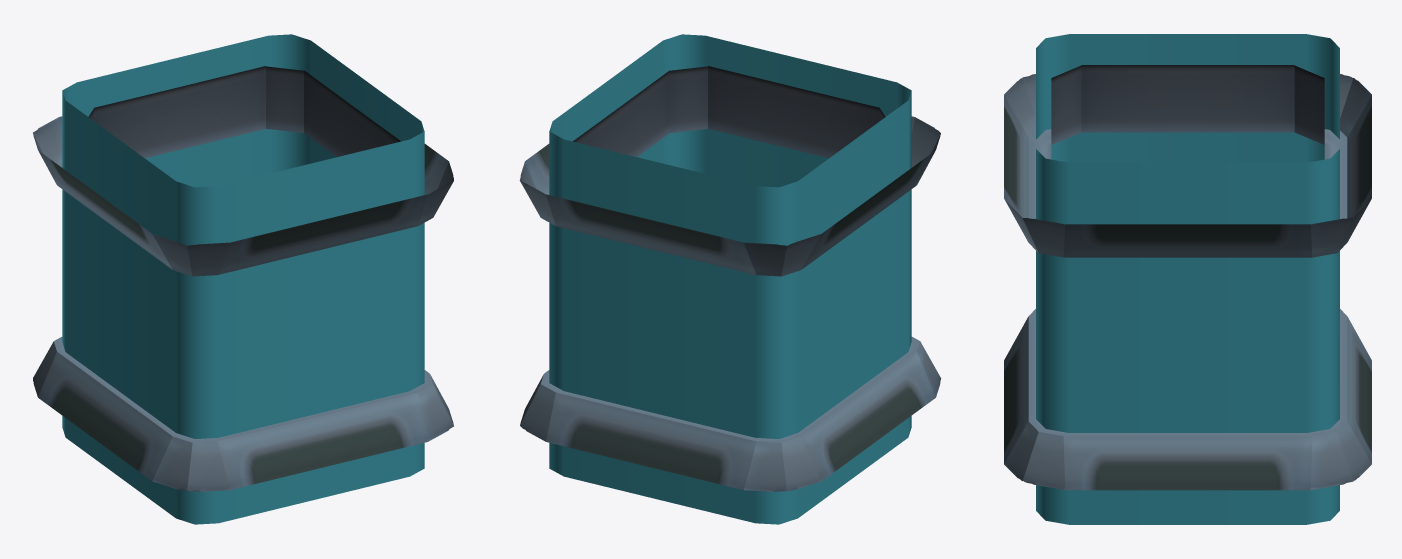
Rendered from obj_interactive_pipe2.fbx.
The picture shows the model from 3 angles, left to right: view 1: azimuth 30°, elevation 25°; view 2: azimuth 150°, elevation 25°; view 3: azimuth 270°, elevation 25°; orthographic projection. The views are drawn at different scales.
Visible parts, largest first — view 1: obj_interactive_pipe02; view 2: obj_interactive_pipe02; view 3: obj_interactive_pipe02.
Boxes of the visible parts, x1=… form: obj_interactive_pipe02: x1=33, y1=34, x2=453, y2=524; obj_interactive_pipe02: x1=519, y1=34, x2=941, y2=524; obj_interactive_pipe02: x1=1004, y1=34, x2=1371, y2=524.
Bounding box in the file's own units: 2 × 2 × 2.
